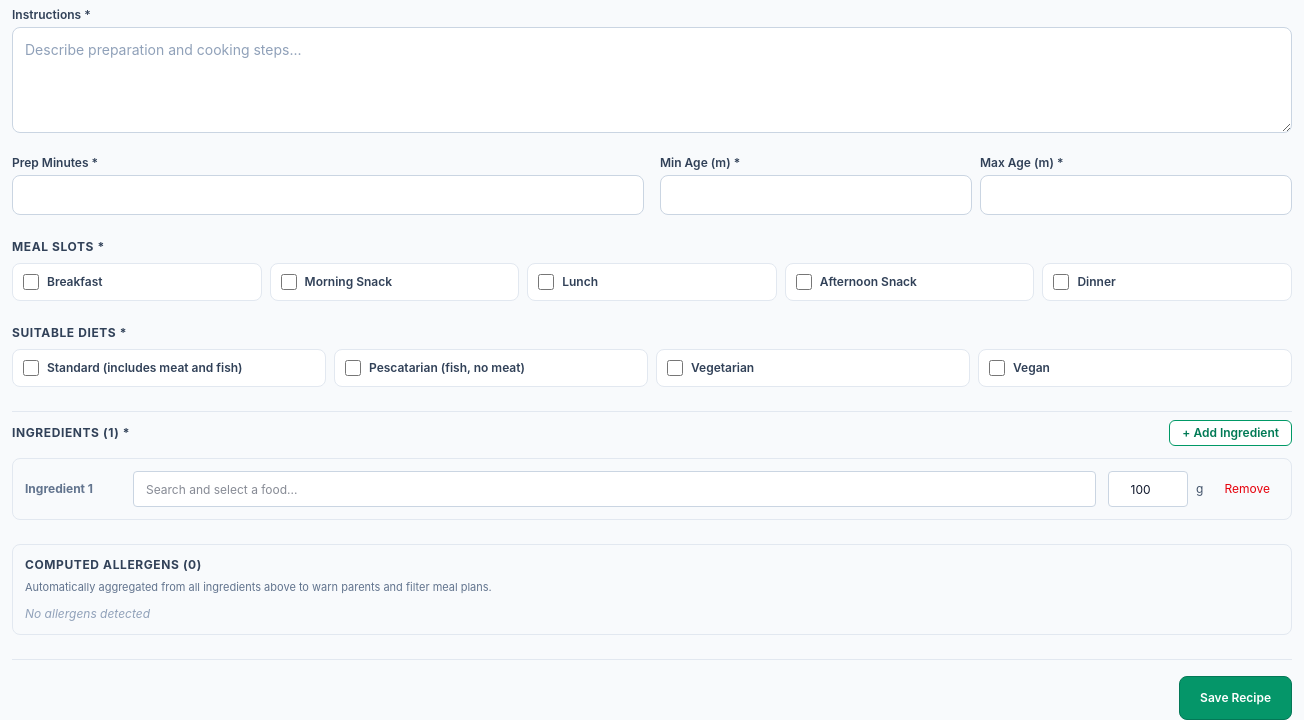
Test: RecipeForm component › blocks submit and shows validation errors when required fields are missing
The image size is (1304, 720).
(page scrolled)
Click the button "Save Recipe". click: point(1236, 698)
box: top-left (1179, 676), bottom-right (1292, 719)
(page scrolled)
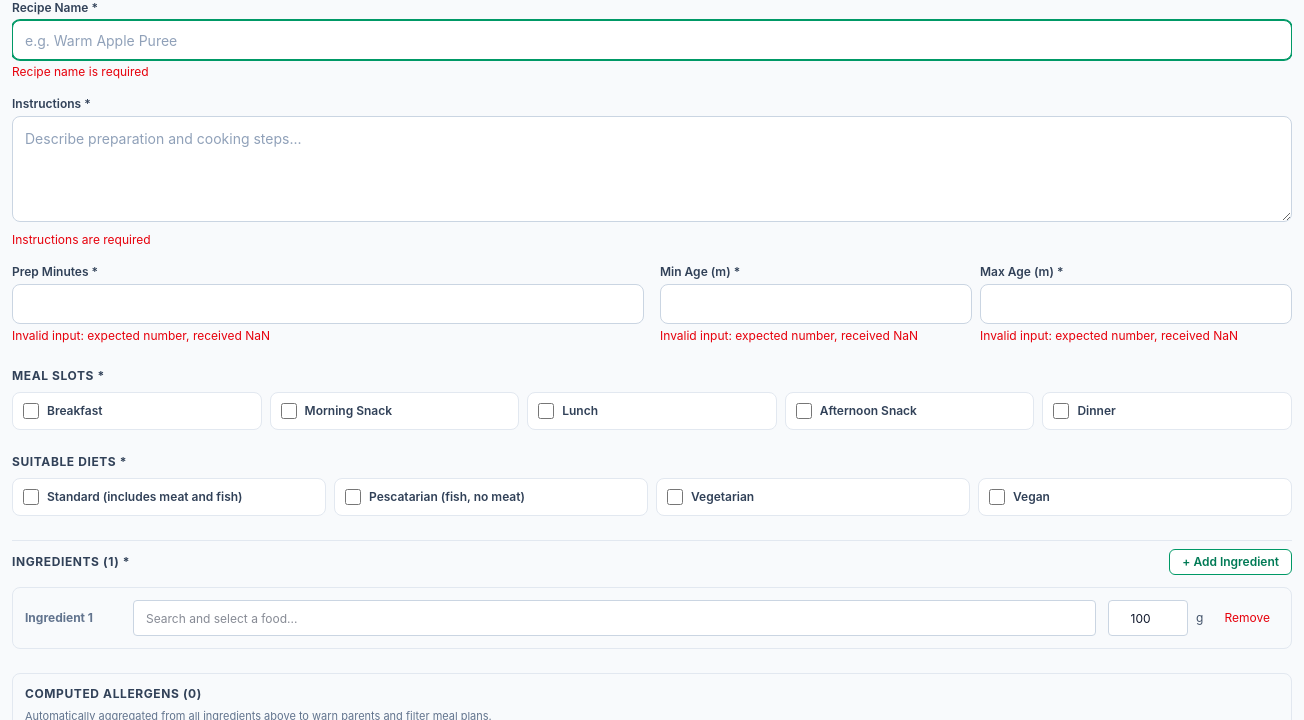
Expected: the text "Recipe name is required" is shown, top-left (12, 64), bottom-right (149, 79)
